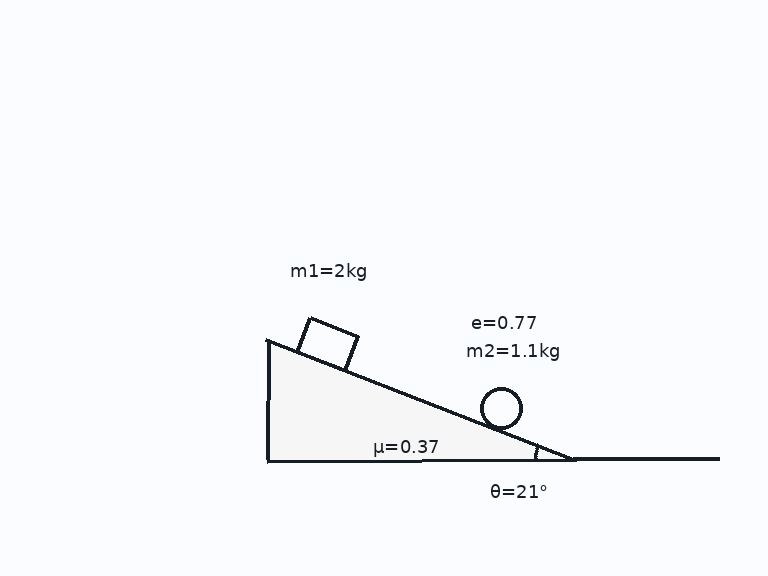ball: (478, 385, 524, 431)
block: (295, 315, 360, 373)
ramp: (265, 339, 577, 461)
